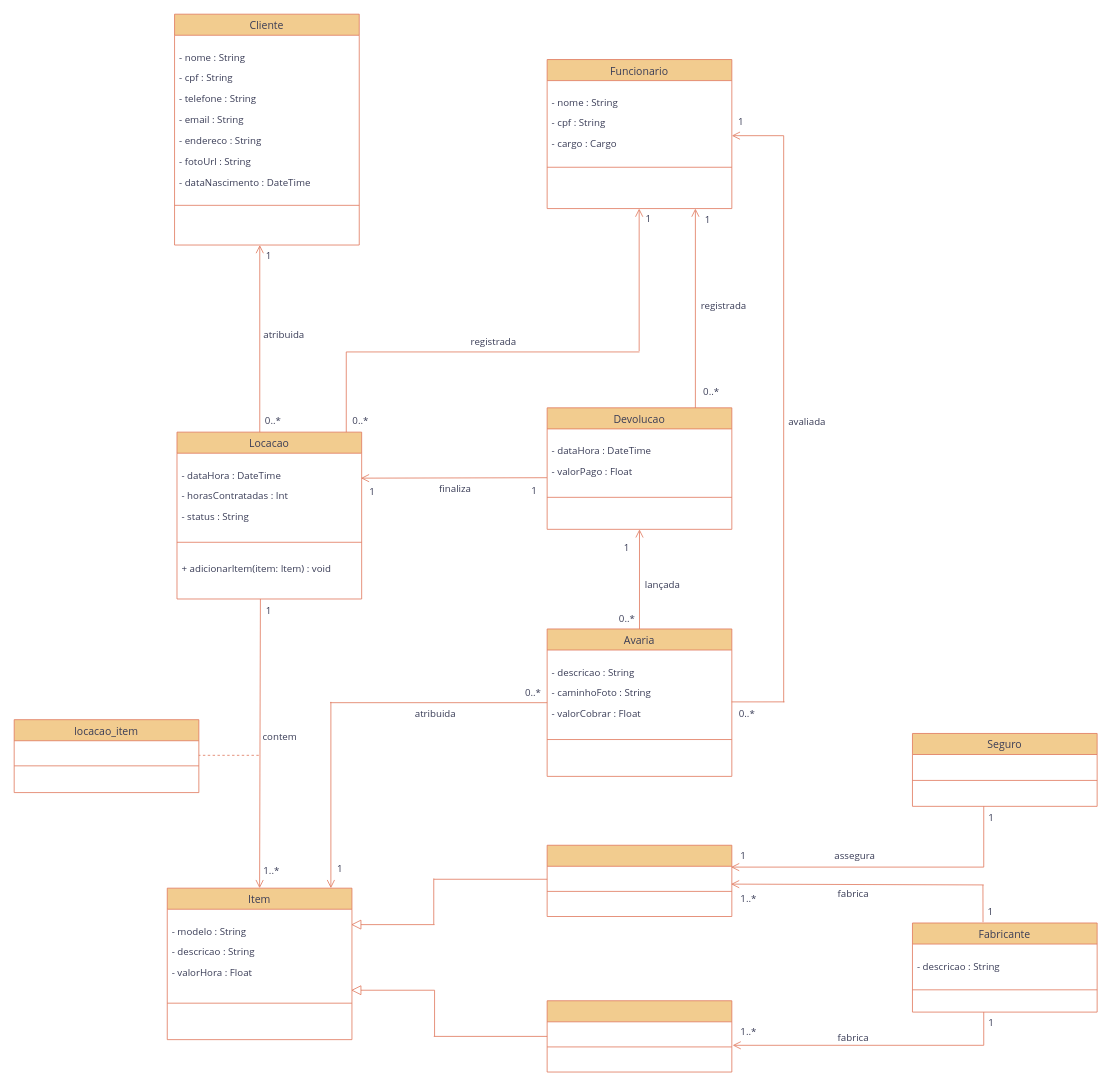
Some shapes in this 1111 by 1086 pixel diagram are drawn without their labels. The centre of each missing label's shape, as x and y in pixels:
"Bicicleta" goes at (x=639, y=880).
"Equipamento" goes at (x=639, y=1036).
